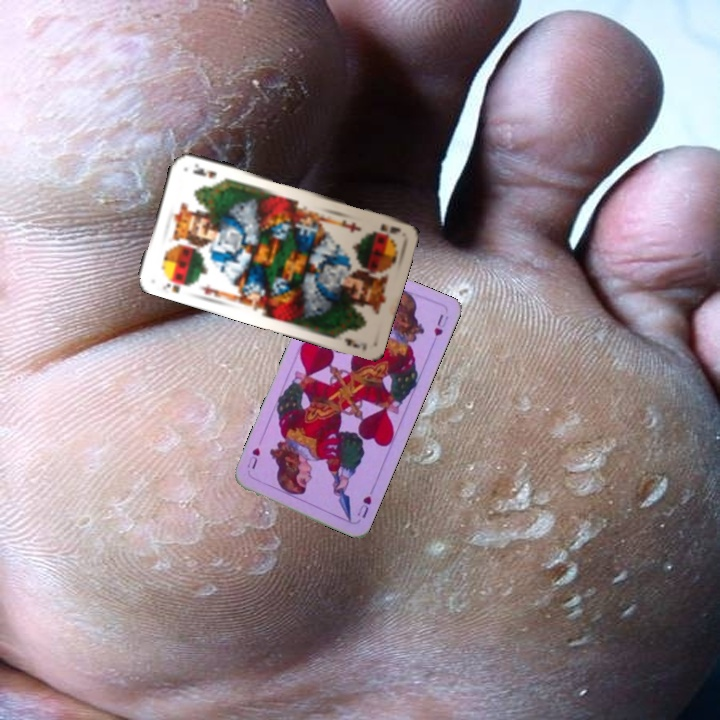HU: (353, 484, 376, 521)
SK: (158, 273, 191, 296), (376, 220, 403, 236)
